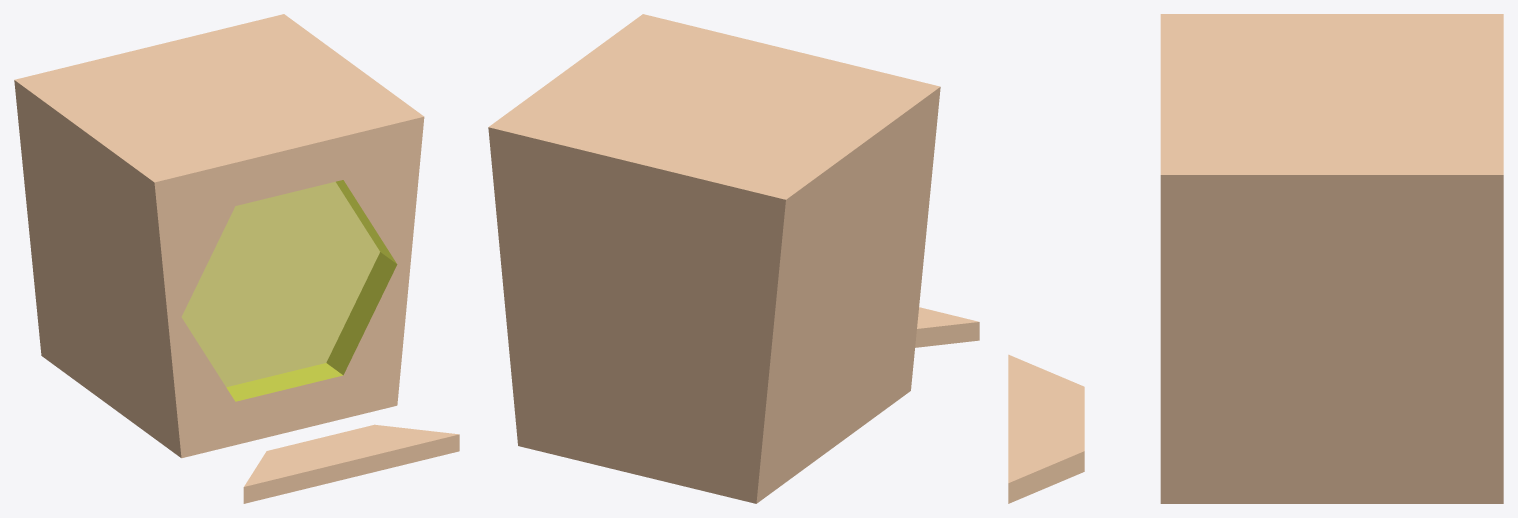
File: computer2.gltf
3 views of the same model, side by side, from view 1: azimuth 30°, elevation 25°; view 2: azimuth 150°, elevation 25°; view 3: azimuth 270°, elevation 25° (orthographic). The views are drawn at different scales.
Visible parts, largest first — view 1: Mesh1 Model, Mesh2 Model; view 2: Mesh1 Model, Mesh2 Model; view 3: Mesh1 Model, Mesh2 Model.
Boxes of the visible parts, x1,y1,x2,y2 form: Mesh1 Model: [14, 14, 424, 458]; Mesh2 Model: [243, 424, 459, 503]; Mesh1 Model: [488, 14, 940, 503]; Mesh2 Model: [915, 307, 979, 347]; Mesh1 Model: [1160, 14, 1503, 503]; Mesh2 Model: [1008, 354, 1084, 503].
Bounding box in the file's own units: 0.5 × 0.5 × 0.65.
